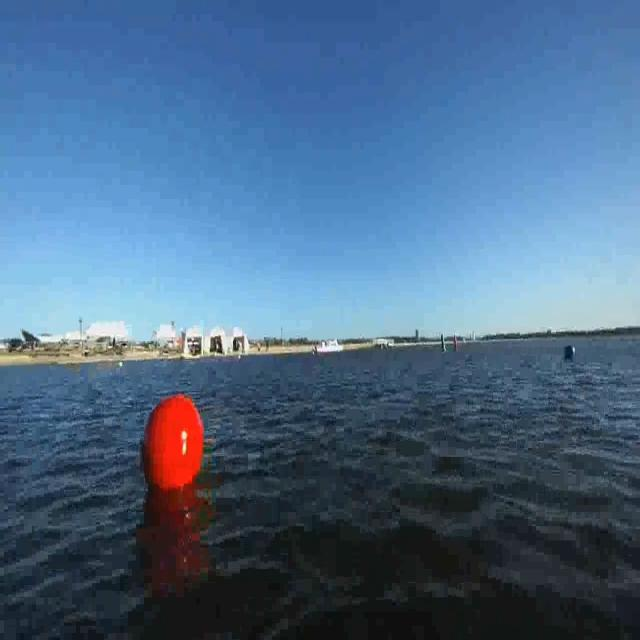blue-buoy: (563, 341, 577, 361)
red-buoy: (140, 392, 206, 496)
